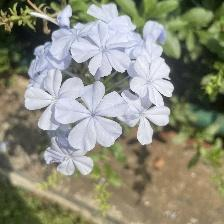chitrak: (56, 84, 125, 150), (71, 22, 135, 78), (26, 69, 84, 126), (123, 92, 170, 147), (134, 55, 174, 106)
